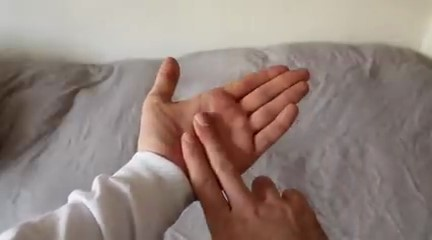N: (130, 41, 337, 240)
